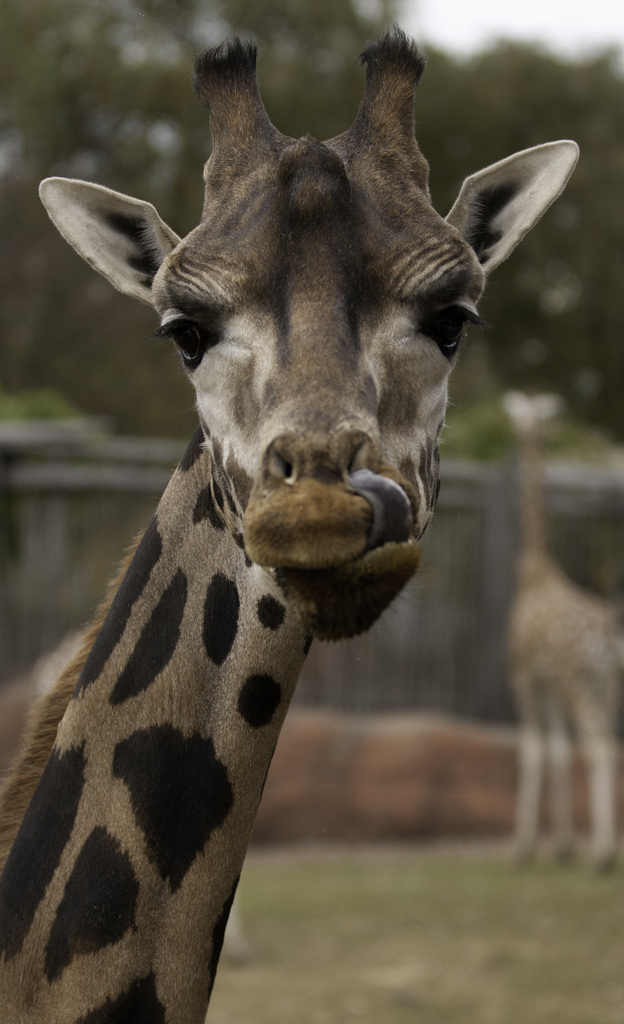giraffe: (41, 37, 590, 882)
